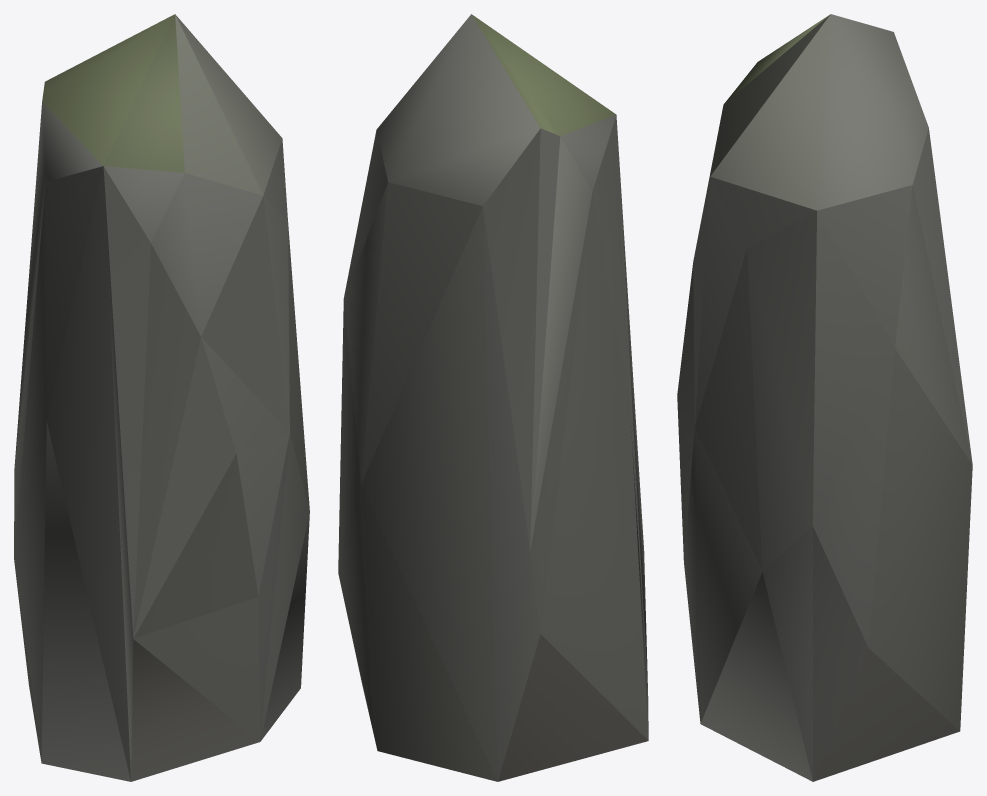
File: rock_post_lod1.glb
3 renders of one model, left to right at view 1: azimuth 30°, elevation 25°; view 2: azimuth 150°, elevation 25°; view 3: azimuth 270°, elevation 25°, orthographic.
Visible parts, largest first — view 1: rock_post_lod1; view 2: rock_post_lod1; view 3: rock_post_lod1.
Part boxes in pixels (x1,y1,x2,y2): rock_post_lod1: (14, 14, 309, 781); rock_post_lod1: (338, 14, 648, 781); rock_post_lod1: (677, 14, 972, 781).
Size of the model in its own units: 0.7415 by 1.82 by 0.6855.
